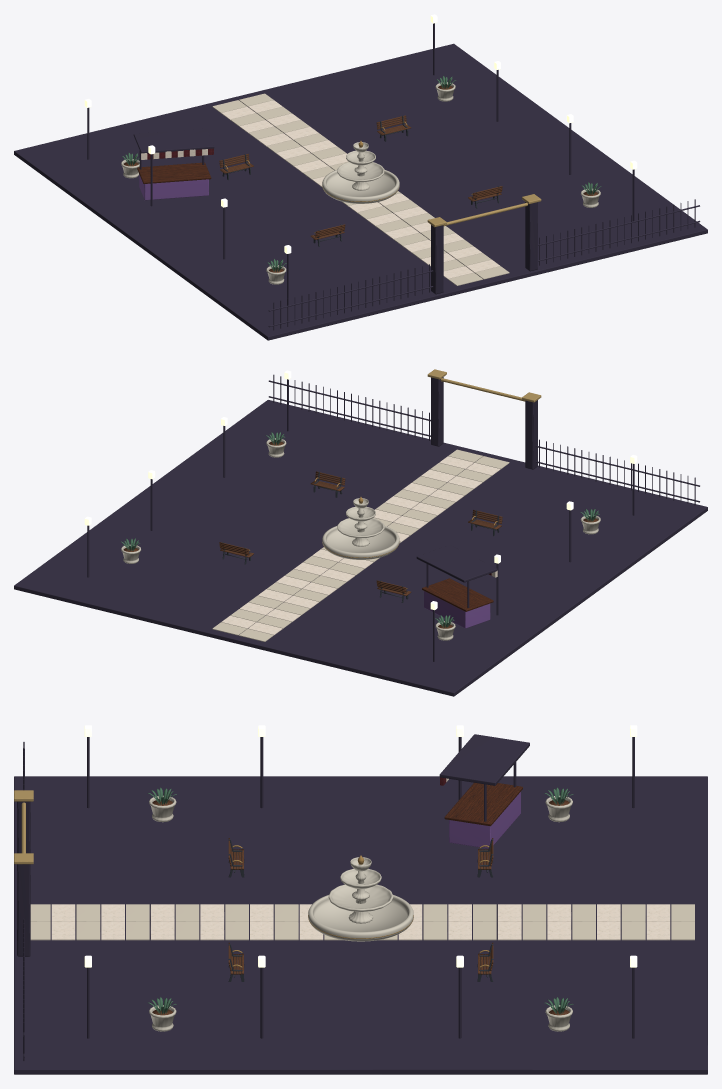
The model's file is finish_plaza.glb.
3 views of the same model, one above another, from view 1: azimuth 30°, elevation 25°; view 2: azimuth 150°, elevation 25°; view 3: azimuth 270°, elevation 25° (orthographic). The views are drawn at different scales.
Parts seen in each view (by area): view 1: exterior_arch_header; view 2: exterior_arch_header; view 3: exterior_arch_header.
Boxes of the visible parts, x1,y1,x2,y2 form: exterior_arch_header: (14, 14, 707, 340); exterior_arch_header: (14, 369, 707, 696); exterior_arch_header: (14, 725, 707, 1074).
Size of the model in its own units: 28 by 4.57 by 28.
Materials: 13 (4 with a texture image).
